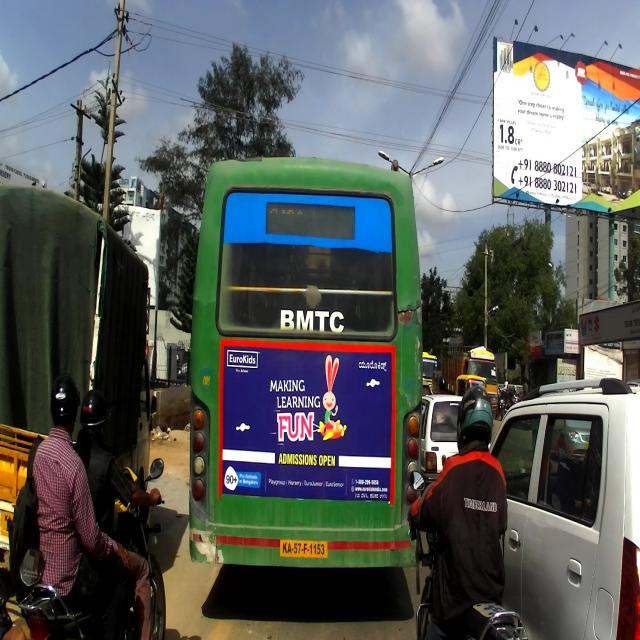bus: (186, 151, 422, 574)
car: (486, 376, 640, 639), (417, 388, 494, 488)
motorcycle: (16, 455, 165, 638), (408, 468, 529, 638)
truck: (0, 178, 159, 580)
